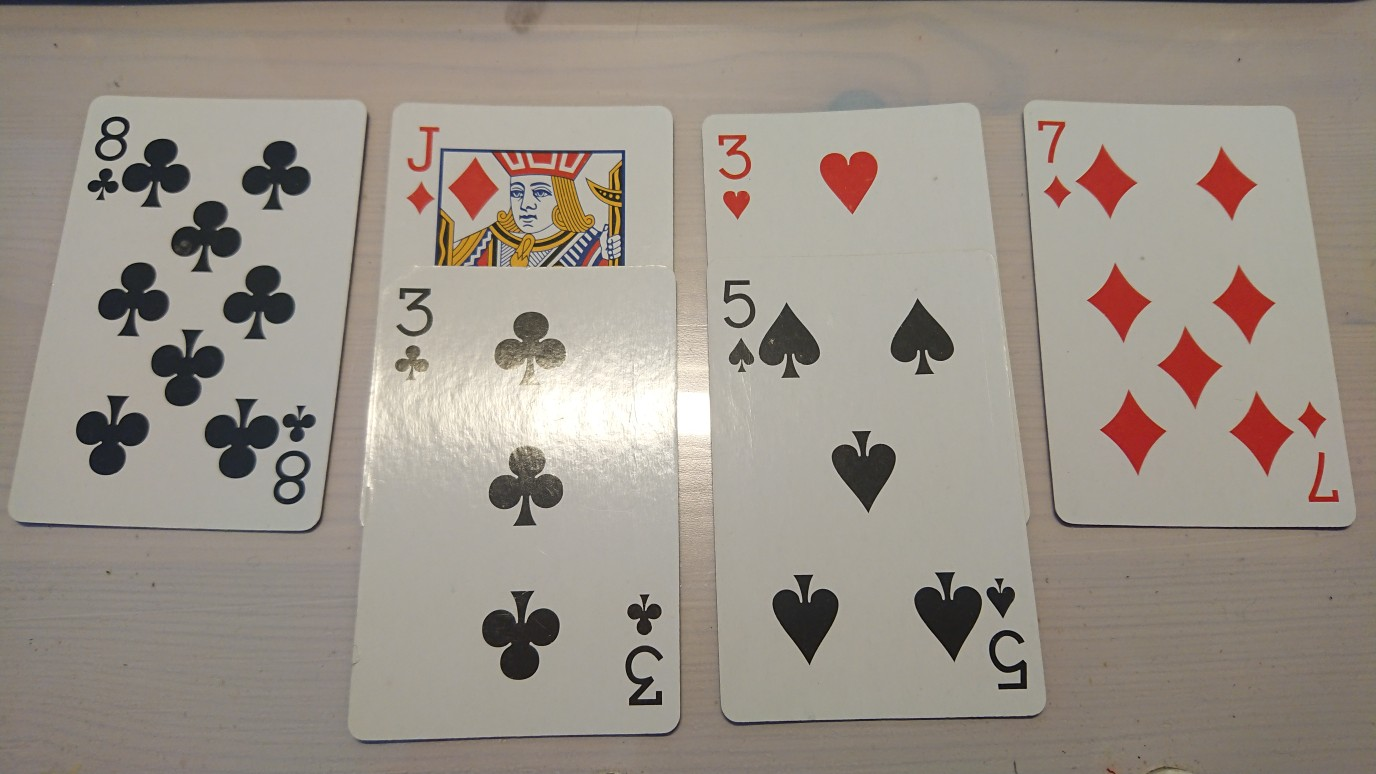3C: (388, 279, 437, 385)
3H: (712, 129, 756, 226)
5S: (717, 274, 761, 376)
7D: (1030, 114, 1075, 213)
8C: (83, 113, 135, 205)
JD: (402, 121, 444, 221)
